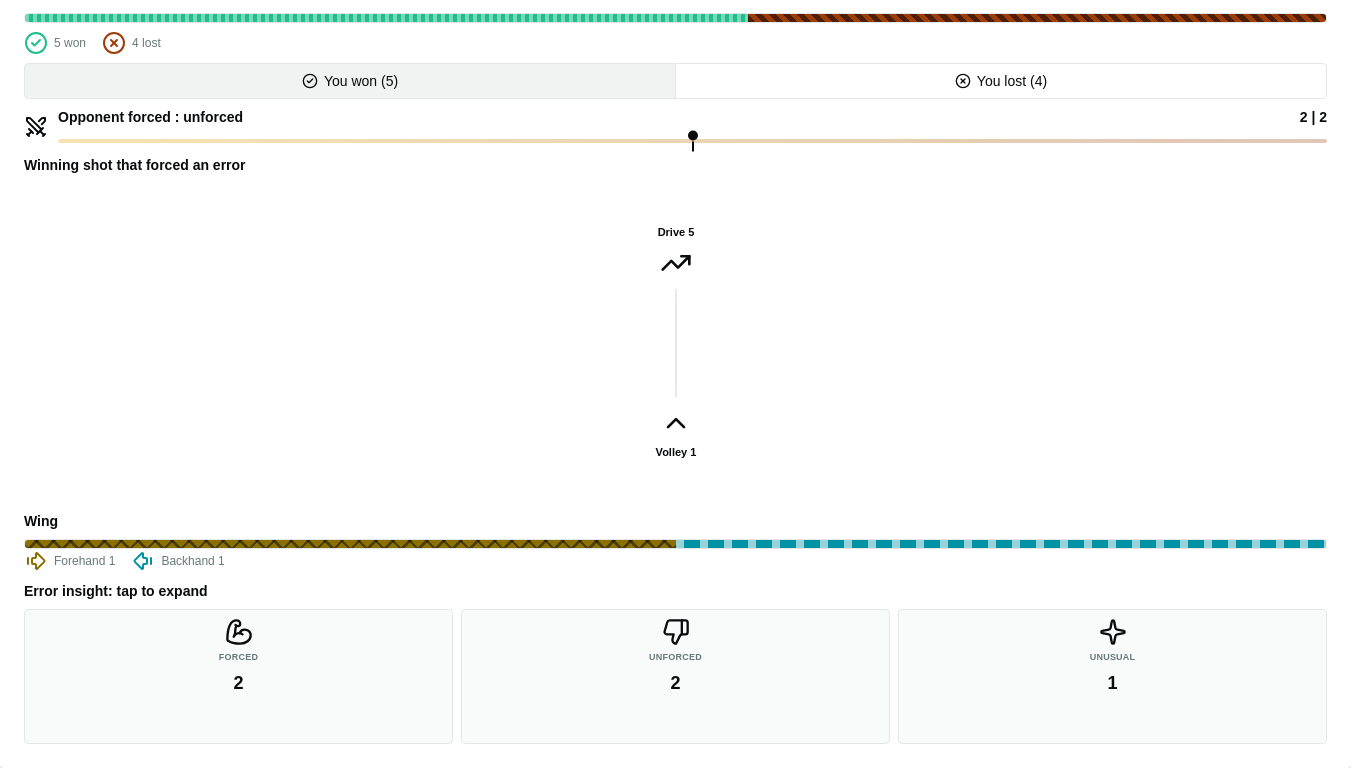
Test case: Unforced's drill has no Wing or Shot type heading, only Final ball
(page scrolled)
Click the button "Unforced 2" at (676, 676), box x1=461 y1=609 x2=890 y2=744
(page scrolled)
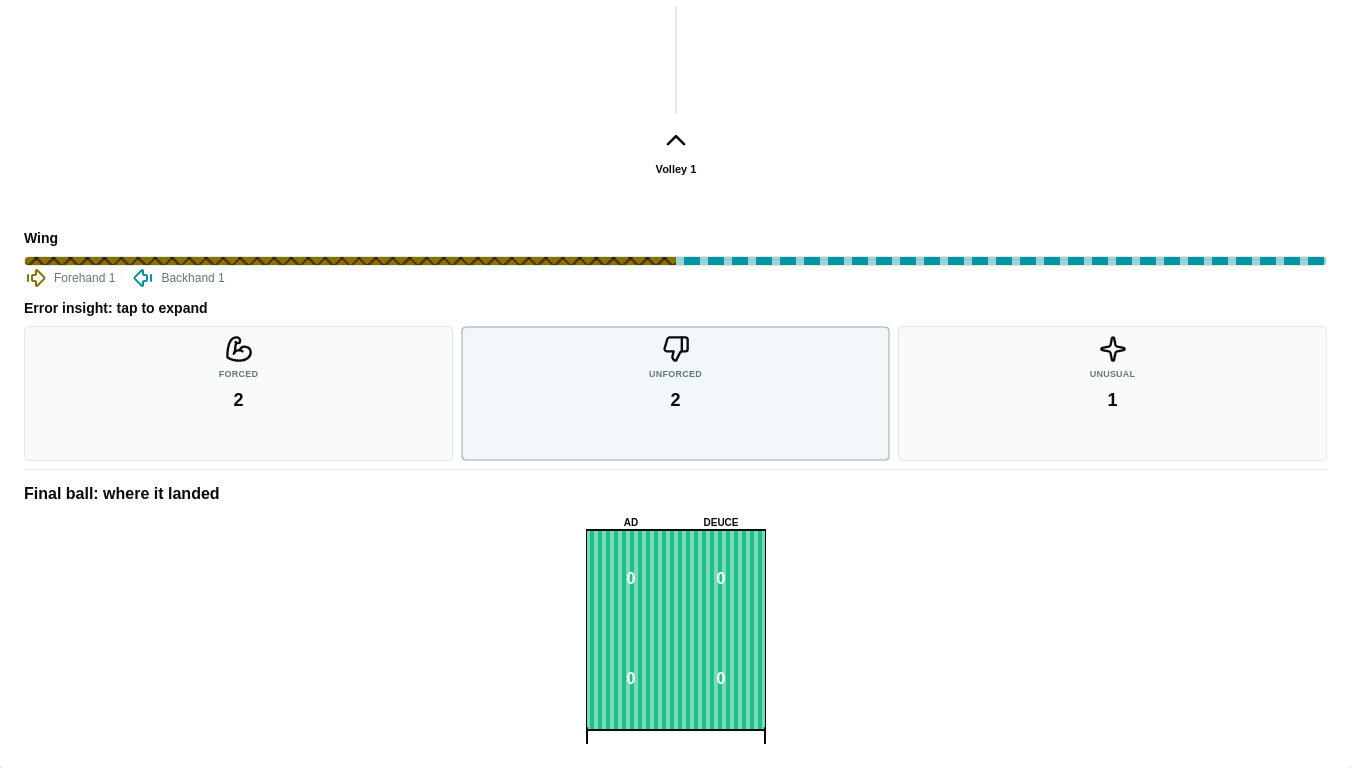
Now the text "Final ball: where it landed" is shown, box x1=24 y1=485 x2=220 y2=502
